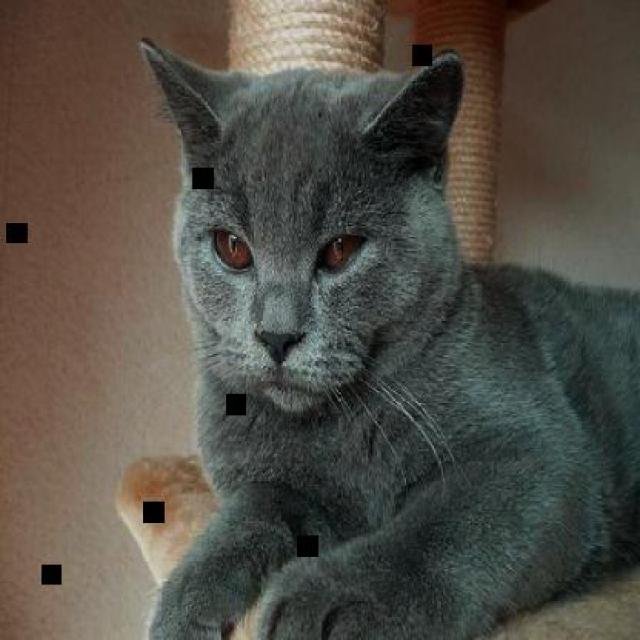cat: (138, 34, 639, 638)
